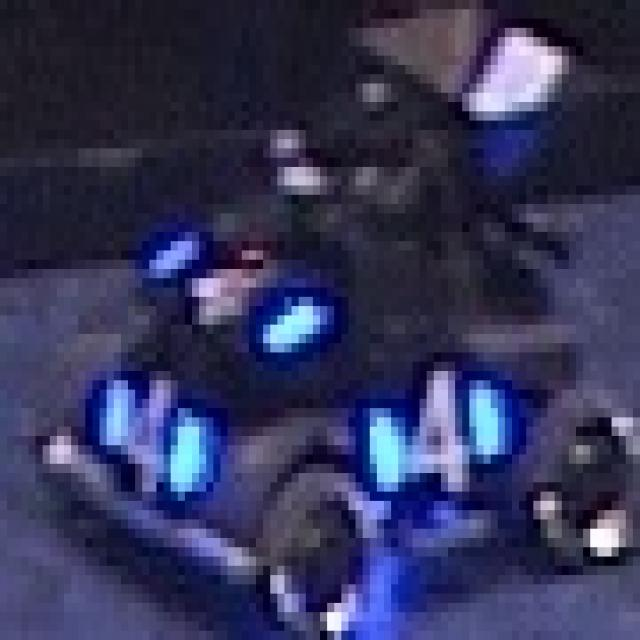B4: (363, 362, 505, 492), (92, 362, 206, 492)
